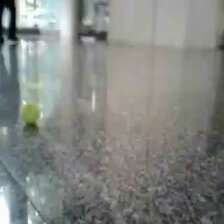tennis: (20, 104, 38, 125)
